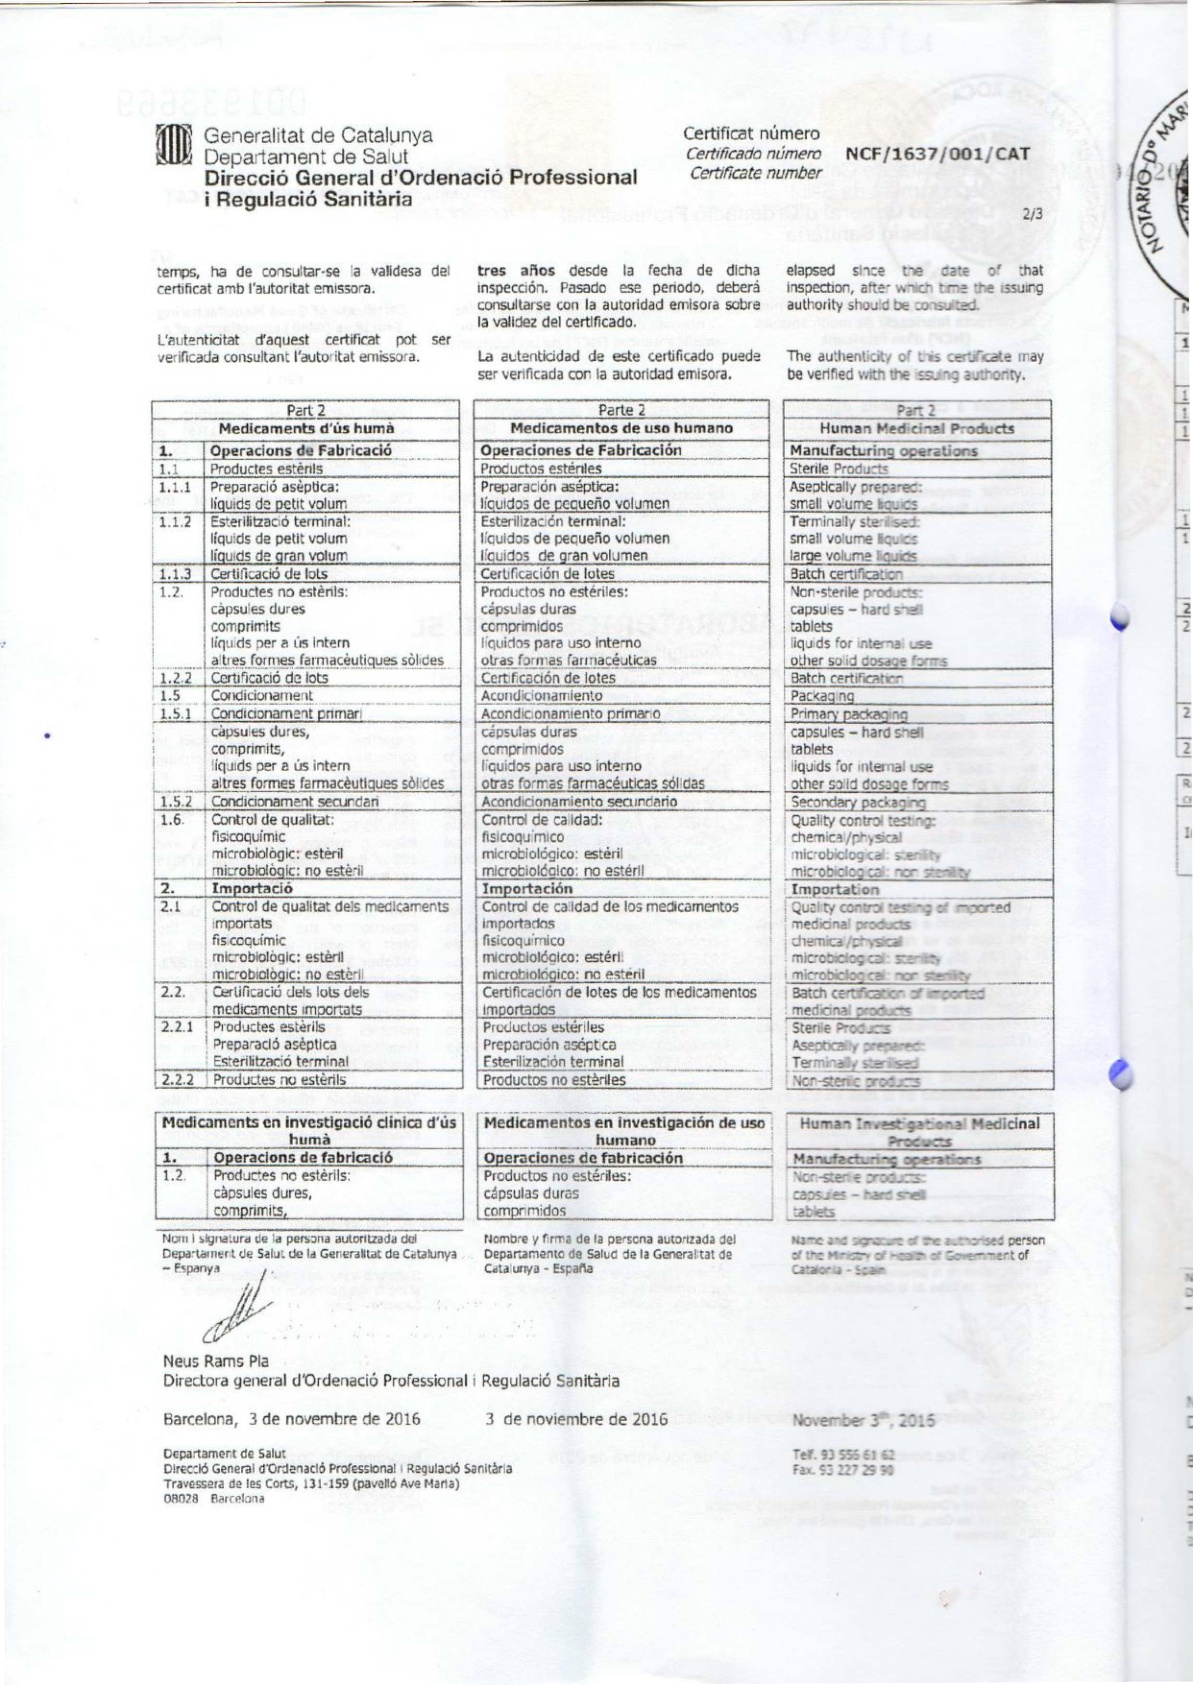full_lined: (473, 396, 773, 1090), (781, 398, 1056, 1091), (475, 1110, 773, 1221), (784, 1110, 1057, 1221)
merged_cells: (148, 398, 464, 1090), (154, 1110, 465, 1220)
